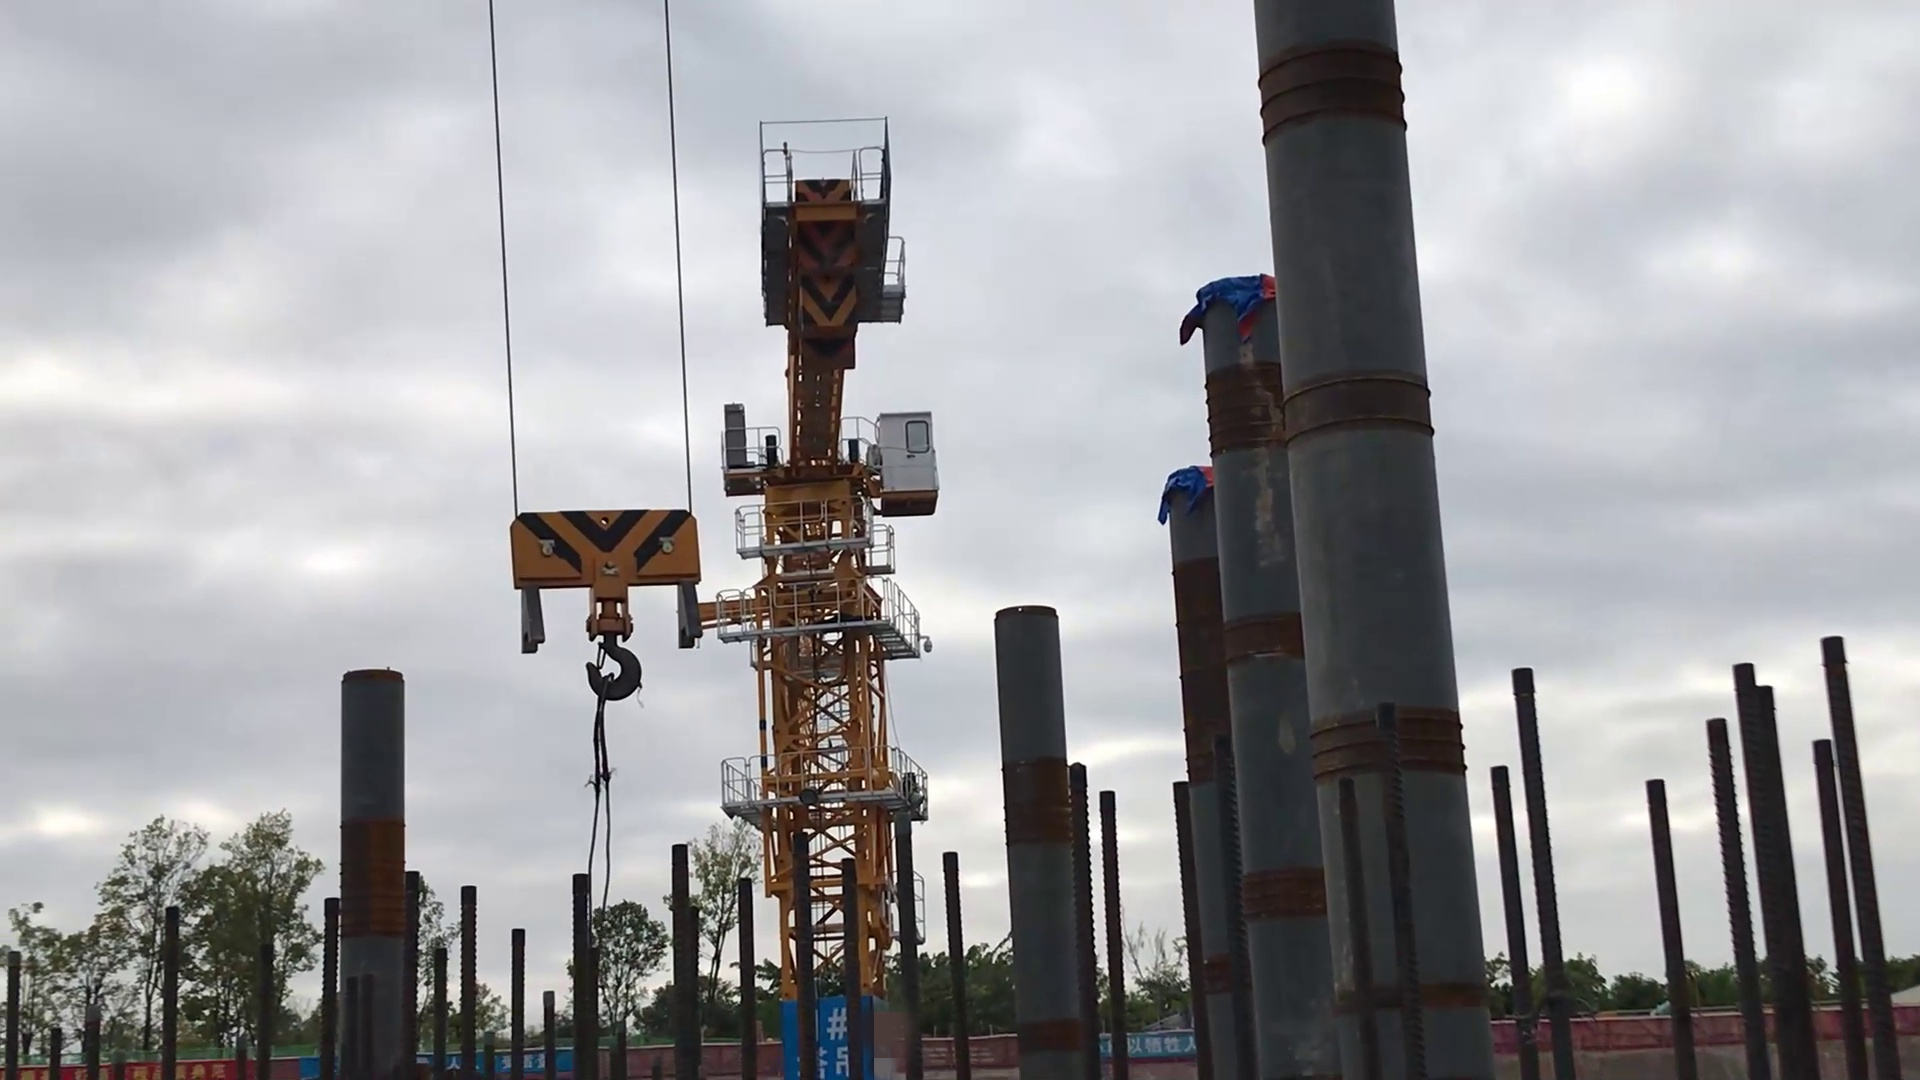hook: (488, 501, 707, 705)
